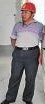boots: (0, 98, 14, 104), (23, 98, 32, 104)
hard-hat: (20, 2, 35, 12)
